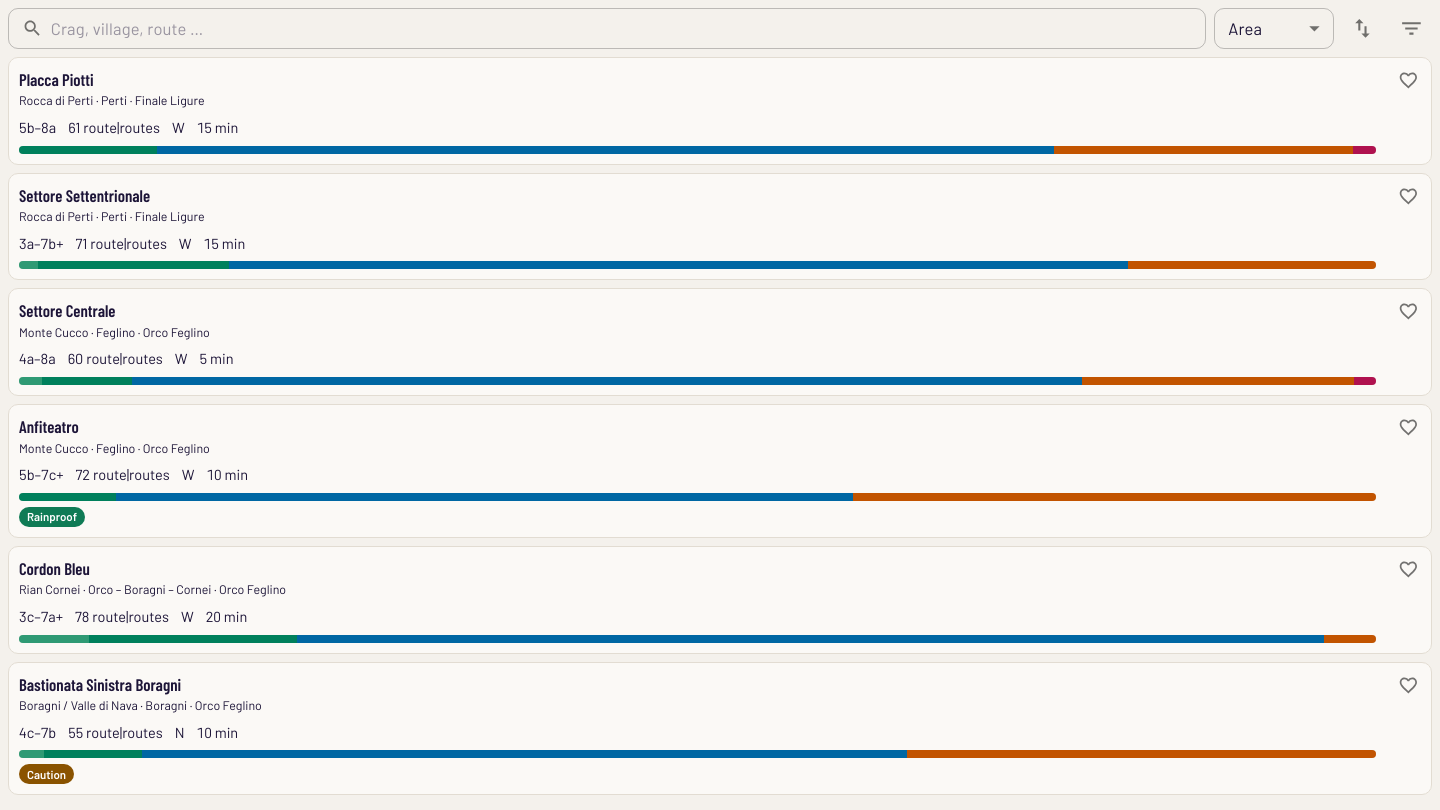
the crag list › narrows to what the search text matches
Type "Cordon Bleu" into the field with placeholder "Crag, village, route …" at (628, 28), box [51,8,1206,49]
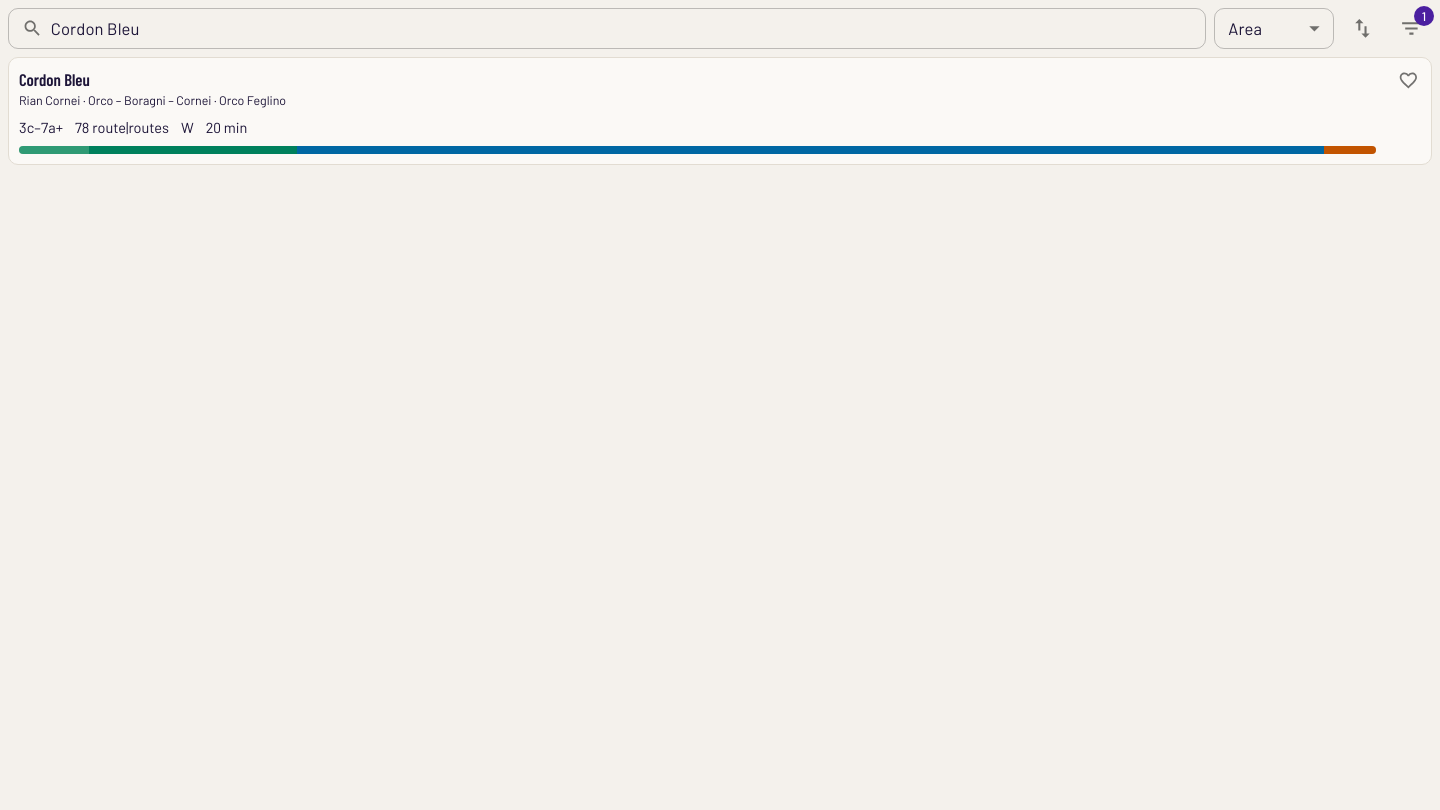
Check: the heading "Cordon Bleu" is shown, box [19,69,90,89]
Check: the button "Settore Settentrionale" is gone
